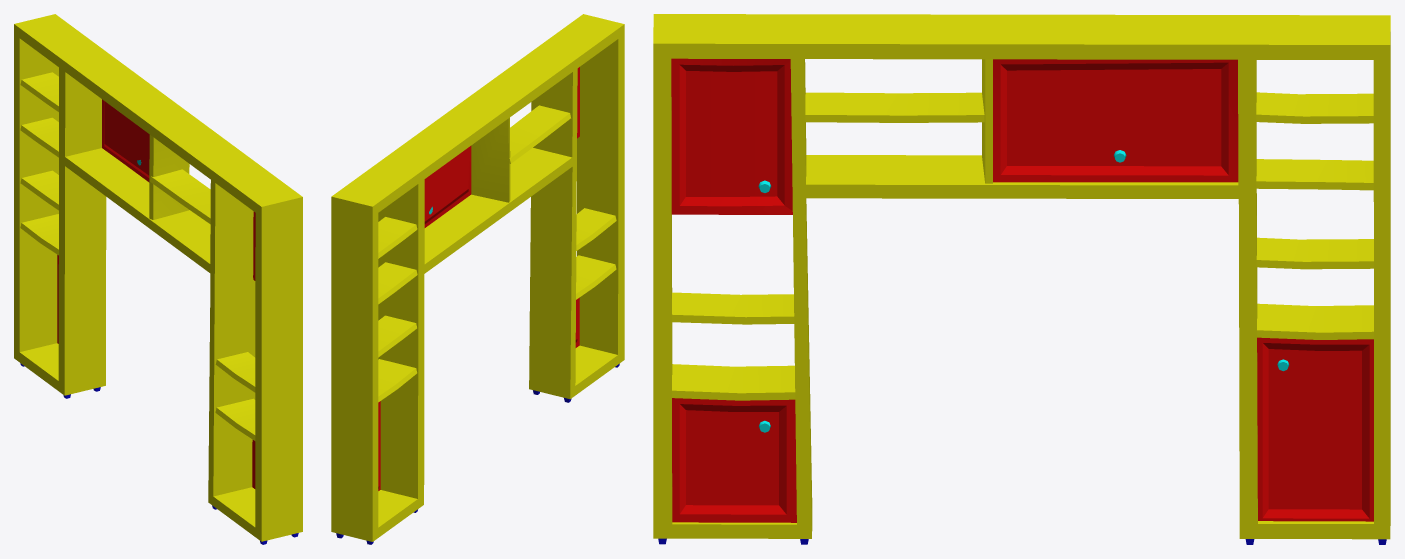
File: LivingRoom_TVShelf.fbx
3 renders of one model, left to right at view 1: azimuth 30°, elevation 25°; view 2: azimuth 150°, elevation 25°; view 3: azimuth 270°, elevation 25°, orthographic. The views are drawn at different scales.
Parts seen in each view (by area): view 1: LivingRoom_TVShelf; view 2: LivingRoom_TVShelf; view 3: LivingRoom_TVShelf.
Part boxes in pixels (<box>): LivingRoom_TVShelf: <box>14,14,302,544</box>; LivingRoom_TVShelf: <box>331,14,624,544</box>; LivingRoom_TVShelf: <box>653,14,1390,544</box>.
Bounding box in the file's own units: 50.92 × 385 × 511.
